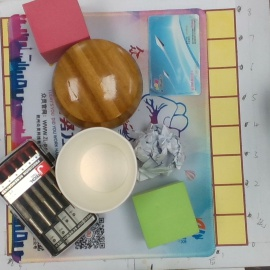card: (143, 13, 203, 97)
chess: (51, 39, 145, 130)
cup: (53, 127, 140, 214)
